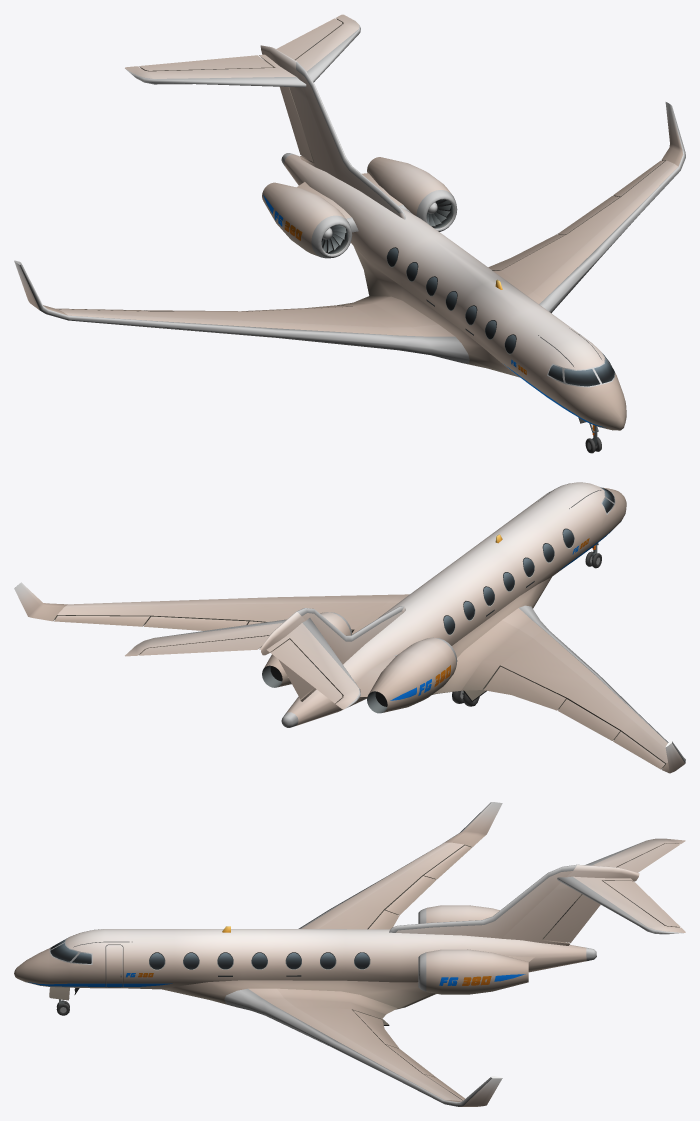
The picture shows the model from 3 angles, top to bottom: view 1: azimuth 30°, elevation 25°; view 2: azimuth 150°, elevation 25°; view 3: azimuth 270°, elevation 25°; orthographic projection. The views are drawn at different scales.
Parts seen in each view (by area): view 1: Fuselage_Plane_2A, Elevator_2A_R.R, Elevator_2A_R.L, Rudder_2A; view 2: Fuselage_Plane_2A, Flap_2A_F.R2, Elevator_2A_R.R, Elevator_2A_R.L, Flap_2A_F.L1, Flap_2A_F.R1, Aileron_2A_F.L, Livery_2A, Aileron_2A_F.R; view 3: Fuselage_Plane_2A, Rudder_2A, Livery_2A, Elevator_2A_R.L, Flap_2A_F.R1, Elevator_2A_R.R, Flap_2A_F.L2, Aileron_2A_F.R.
Boxes of the visible parts, <box> form: Fuselage_Plane_2A: <box>14,14,685,430</box>; Elevator_2A_R.R: <box>139,55,273,71</box>; Elevator_2A_R.L: <box>276,18,342,60</box>; Rudder_2A: <box>280,86,313,162</box>; Fuselage_Plane_2A: <box>14,482,685,773</box>; Flap_2A_F.R2: <box>484,666,566,710</box>; Elevator_2A_R.R: <box>271,639,342,703</box>; Elevator_2A_R.L: <box>139,636,268,655</box>; Flap_2A_F.L1: <box>143,616,248,630</box>; Flap_2A_F.R1: <box>558,699,620,740</box>; Aileron_2A_F.L: <box>54,615,149,626</box>; Livery_2A: <box>390,530,612,700</box>; Aileron_2A_F.R: <box>613,731,665,769</box>; Fuselage_Plane_2A: <box>14,802,685,1106</box>; Rudder_2A: <box>542,894,600,942</box>; Livery_2A: <box>28,973,525,986</box>; Elevator_2A_R.L: <box>603,880,680,927</box>; Flap_2A_F.R1: <box>385,876,436,915</box>; Elevator_2A_R.R: <box>617,843,680,872</box>; Flap_2A_F.L2: <box>352,1010,399,1048</box>; Aileron_2A_F.R: <box>423,845,471,879</box>.
Size of the model in its own units: 25.76 by 6.52 by 26.58.
